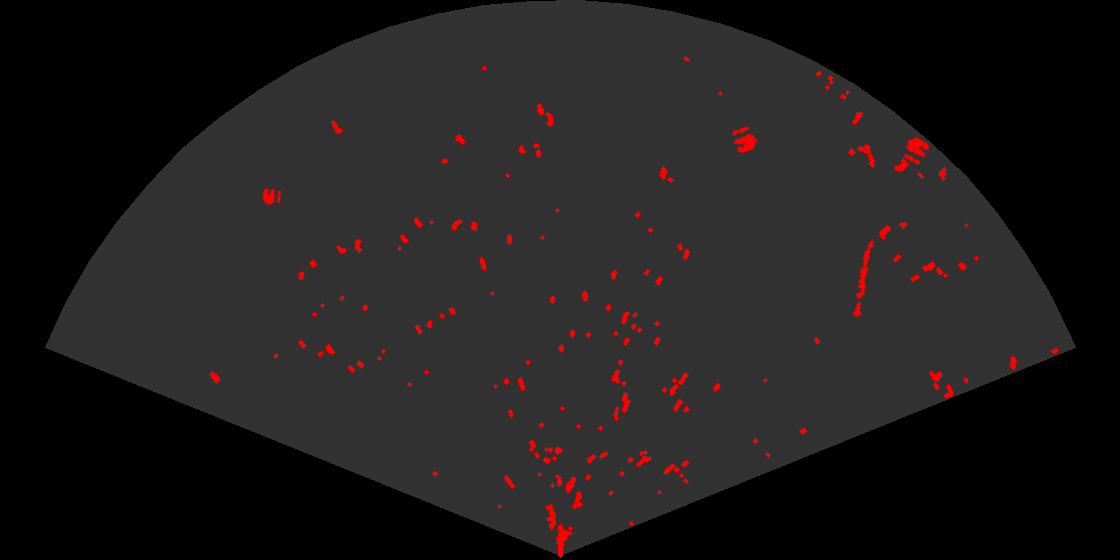ball: (730, 125, 759, 155), (902, 136, 931, 166), (261, 186, 283, 207)
chain: (851, 238, 875, 319)
